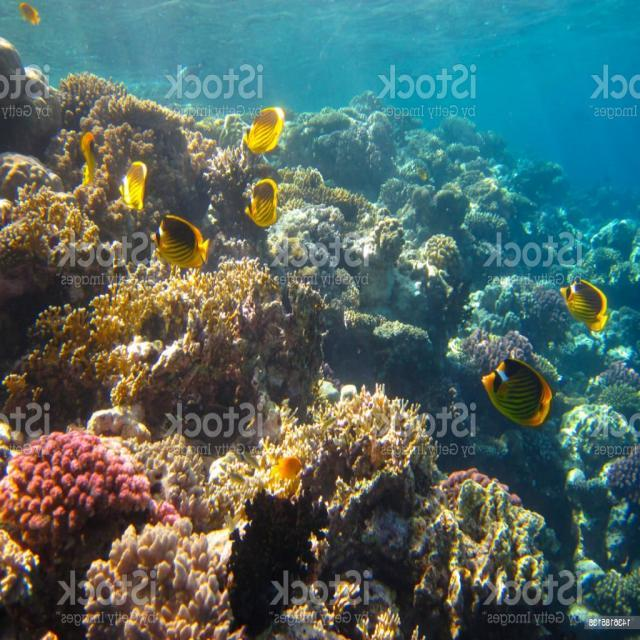ButterflyFish: (126, 204, 230, 292), (472, 346, 561, 440), (225, 157, 298, 236), (235, 88, 311, 160), (561, 258, 615, 356), (58, 124, 124, 172), (117, 154, 165, 206), (22, 0, 58, 31)
